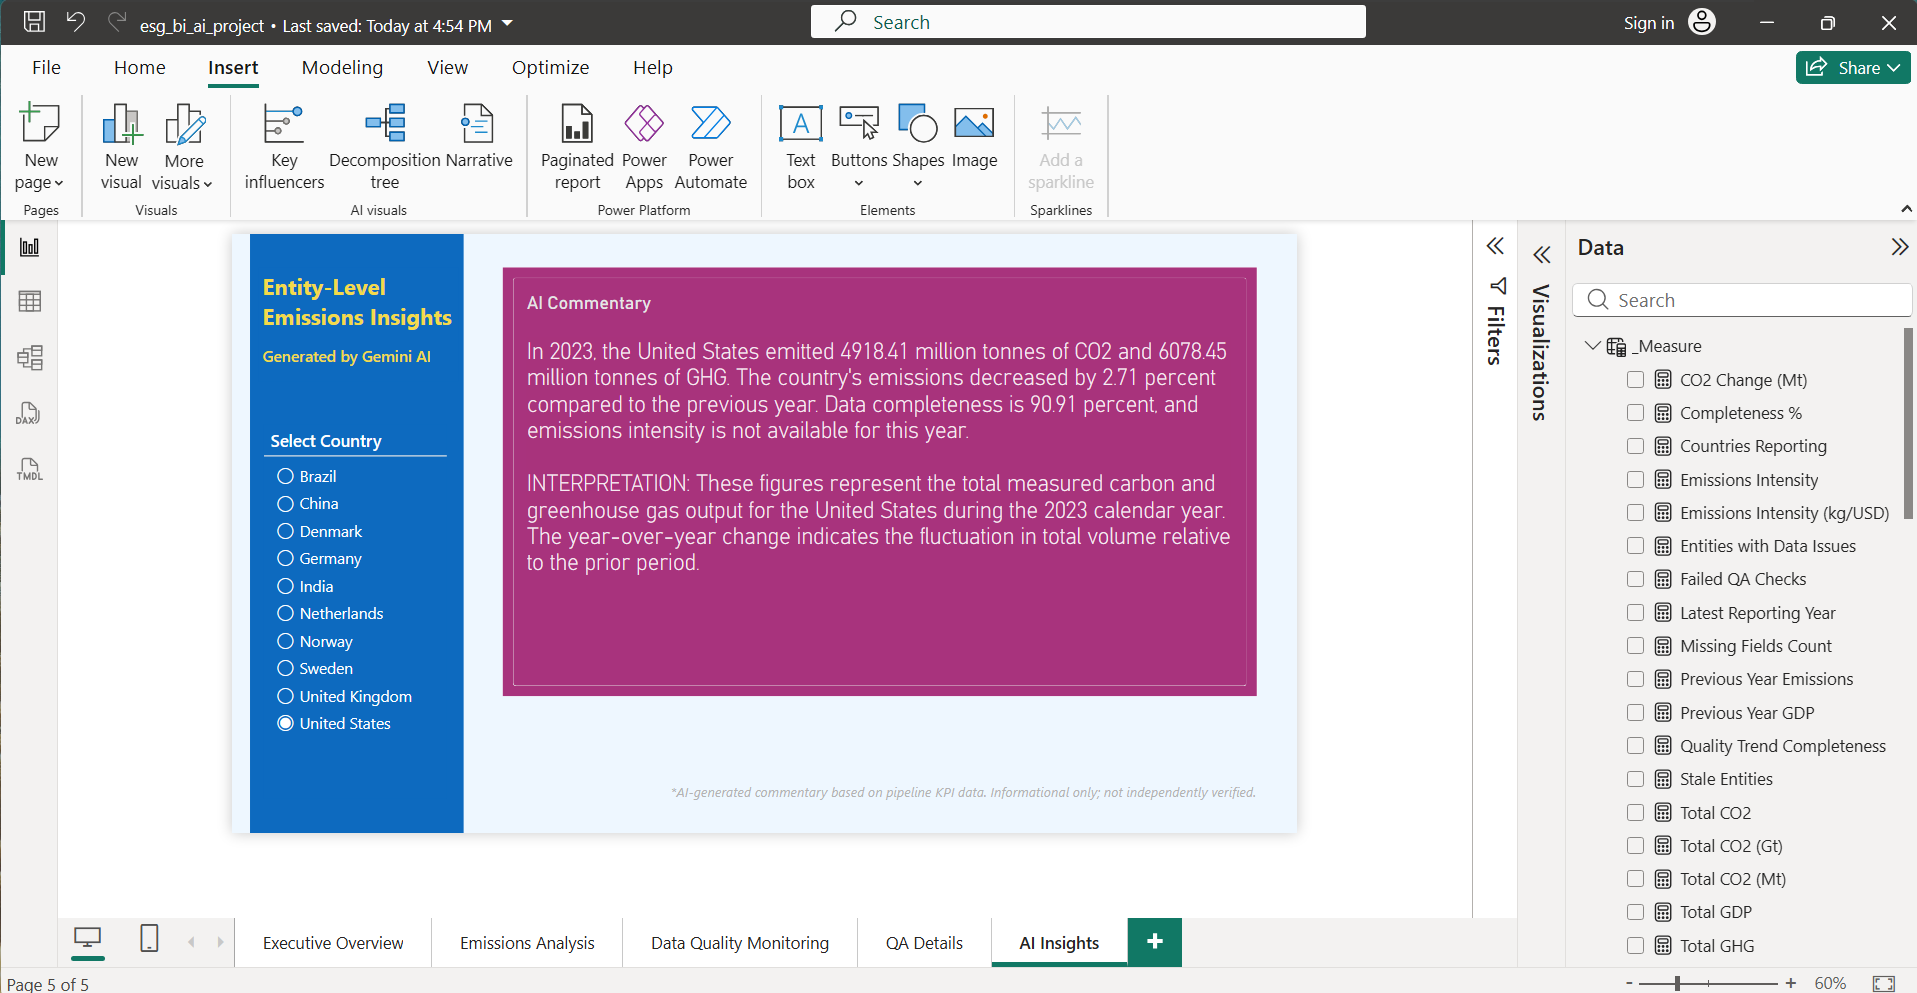

The page's visual inventory and layout, read from the dashboard file:
{"tool":"powerbi","page":{"name":"AI Insights","canvas":[1280,720],"ordinal":4},"visuals":[{"type":"shape","box":[21.7,0,256.7,720],"z":0},{"type":"slicer","title":"Select Country","fields":{"Values":["DIM_ENTITY.entity_name"]},"box":[38.3,228.3,220,450],"z":1000},{"type":"cardVisual","fields":{"Data":["AI_SUMMARY.AI Commentary"]},"box":[325,40,906.7,515],"z":2000},{"type":"textbox","box":[31.7,40,240,136.7],"z":3000},{"type":"textbox","box":[513.3,653.3,743.3,38.3],"z":4000}]}

Visuals, with their boxes on the page's 1280x720 design canvas (x1, y1, x2, y2). These are canvas units, not pixel positions in the 1917x993 screenshot, which may show the page scaled, cropped or inside an application window:
shape: x1=22 y1=0 x2=278 y2=720
"Select Country" slicer: x1=38 y1=228 x2=258 y2=678
cardVisual - AI_SUMMARY.AI Commentary: x1=325 y1=40 x2=1232 y2=555
textbox: x1=32 y1=40 x2=272 y2=177
textbox: x1=513 y1=653 x2=1257 y2=692
